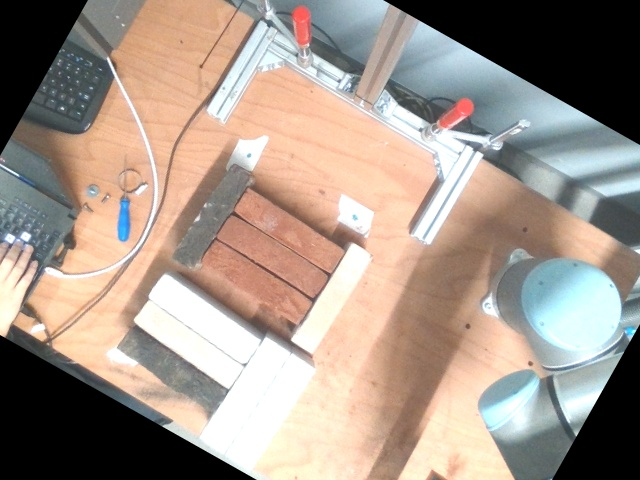brick-side: (146, 273, 260, 365), (132, 299, 246, 390), (225, 355, 315, 470), (200, 338, 290, 453), (116, 325, 226, 414), (217, 214, 328, 298), (200, 240, 311, 324), (233, 189, 343, 273), (291, 243, 371, 353), (172, 163, 253, 269)
